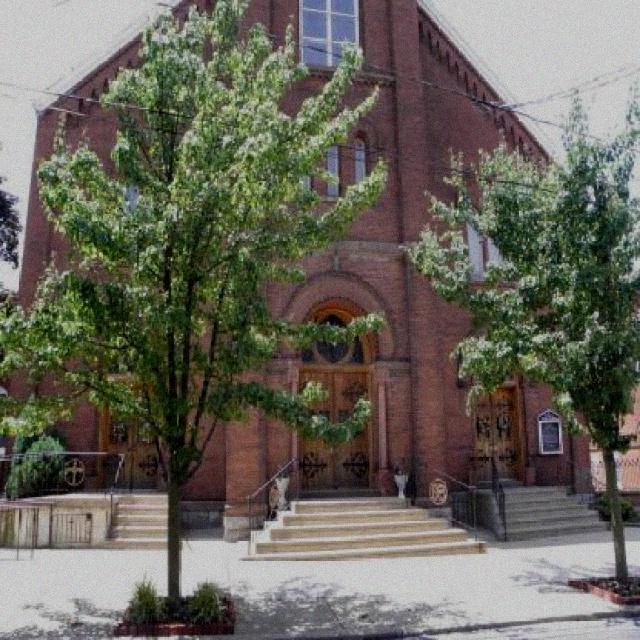stair: (259, 500, 486, 551), (488, 488, 608, 543), (103, 495, 168, 550)
